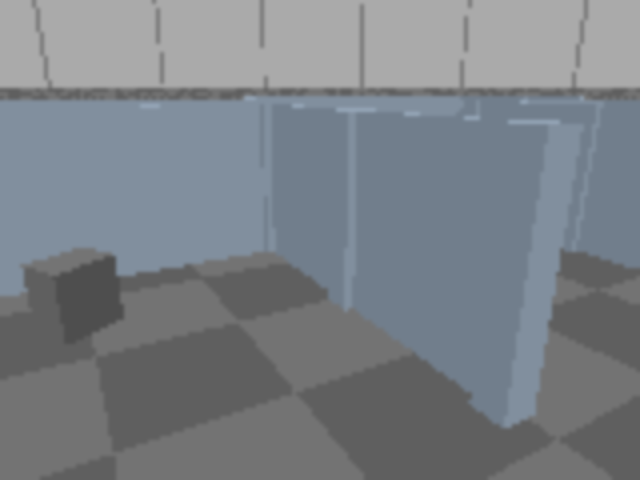obstacle: (21, 247, 124, 347)
